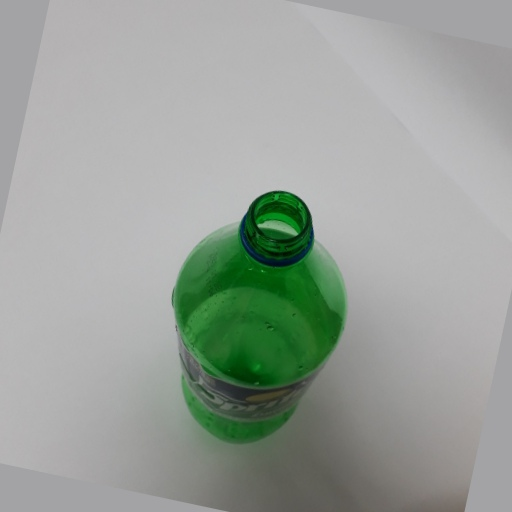Plastic_0: (169, 187, 351, 453)
